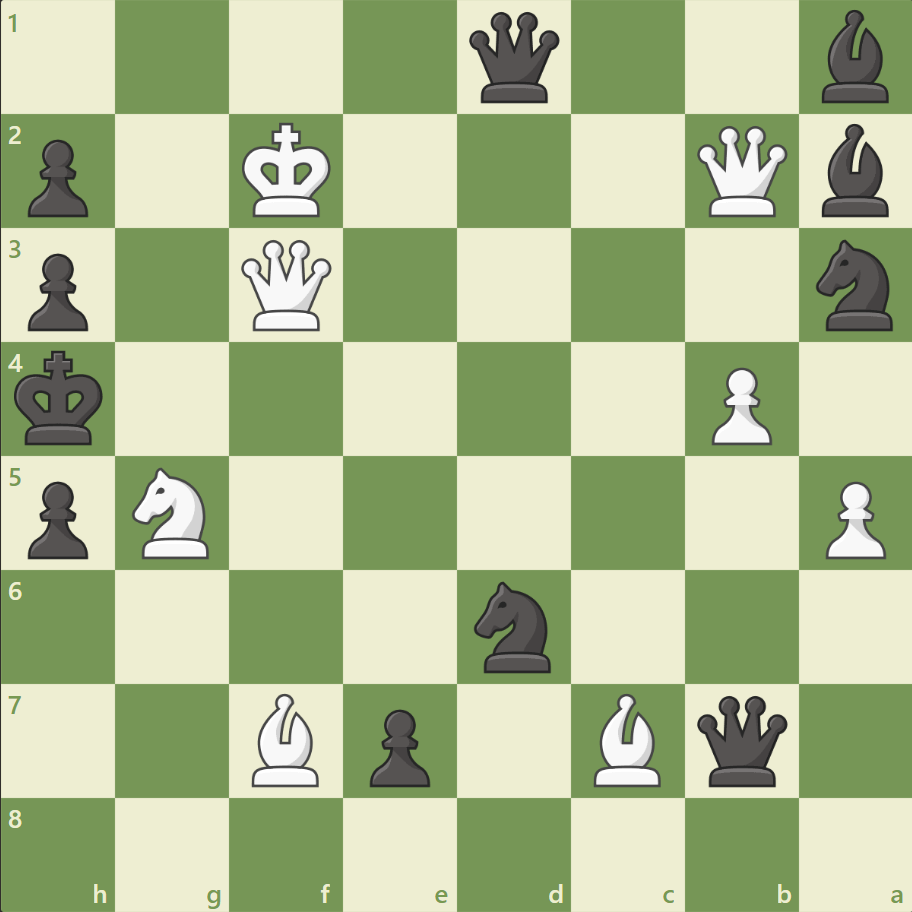B: (585, 687, 669, 790), (244, 687, 328, 790)
K: (238, 117, 338, 225)
N: (124, 461, 222, 564)
P: (701, 359, 776, 450), (815, 473, 889, 564)
Q: (691, 122, 790, 222), (237, 236, 336, 335)
b: (812, 6, 896, 109), (812, 120, 896, 222)
k: (11, 344, 111, 452)
n: (806, 234, 903, 337), (465, 575, 562, 677)
p: (20, 473, 95, 564), (20, 246, 95, 337), (20, 132, 95, 223), (361, 700, 435, 791)
q: (691, 690, 790, 789), (464, 9, 563, 108)
